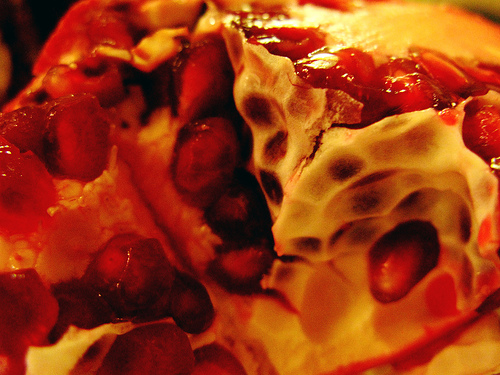pomogranate: (0, 1, 499, 374)
